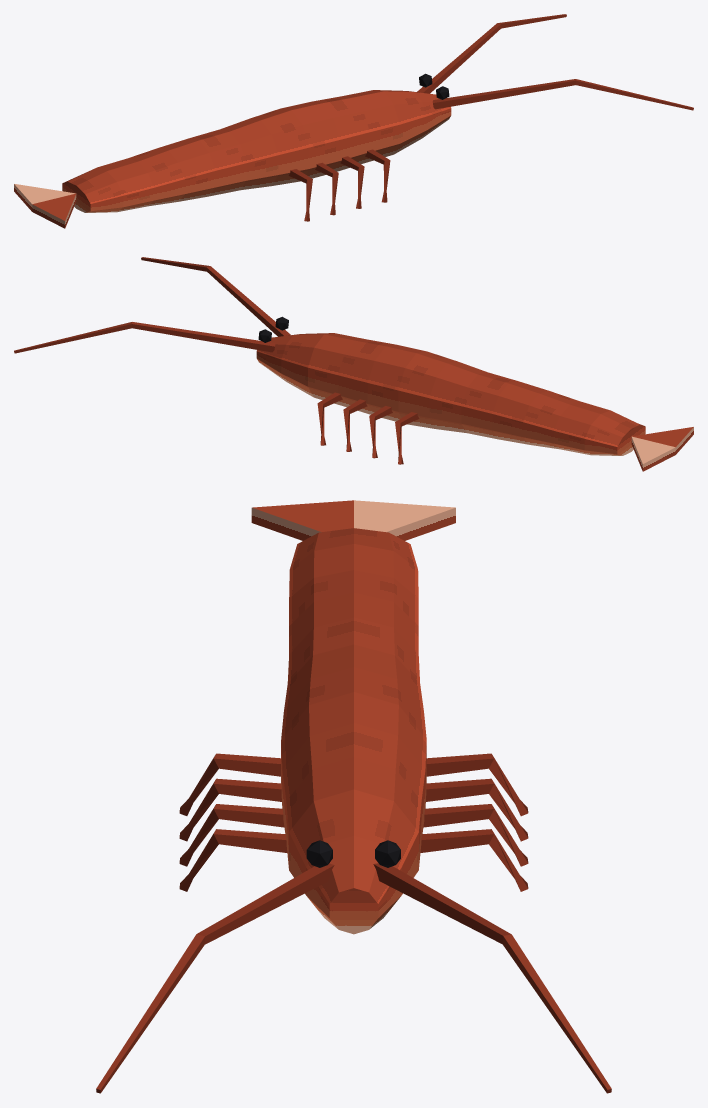
Rendered from southern_rock_lobster.glb.
The picture shows the model from 3 angles, top to bottom: view 1: azimuth 30°, elevation 25°; view 2: azimuth 150°, elevation 25°; view 3: azimuth 270°, elevation 25°; orthographic projection. The views are drawn at different scales.
Parts seen in each view (by area): view 1: fish_southern_rock_lobster; view 2: fish_southern_rock_lobster; view 3: fish_southern_rock_lobster.
Boxes of the visible parts, box(x1,y1,x2,y2) form: fish_southern_rock_lobster: box(14, 14, 693, 228); fish_southern_rock_lobster: box(14, 257, 693, 471); fish_southern_rock_lobster: box(96, 500, 611, 1093).
Bounding box in the file's own units: 1.62 × 0.1934 × 0.6055.
Materials: 3 (1 with a texture image).
